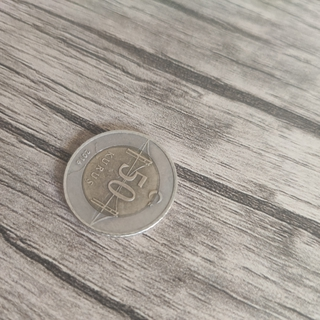50KURUS: (62, 127, 178, 239)
